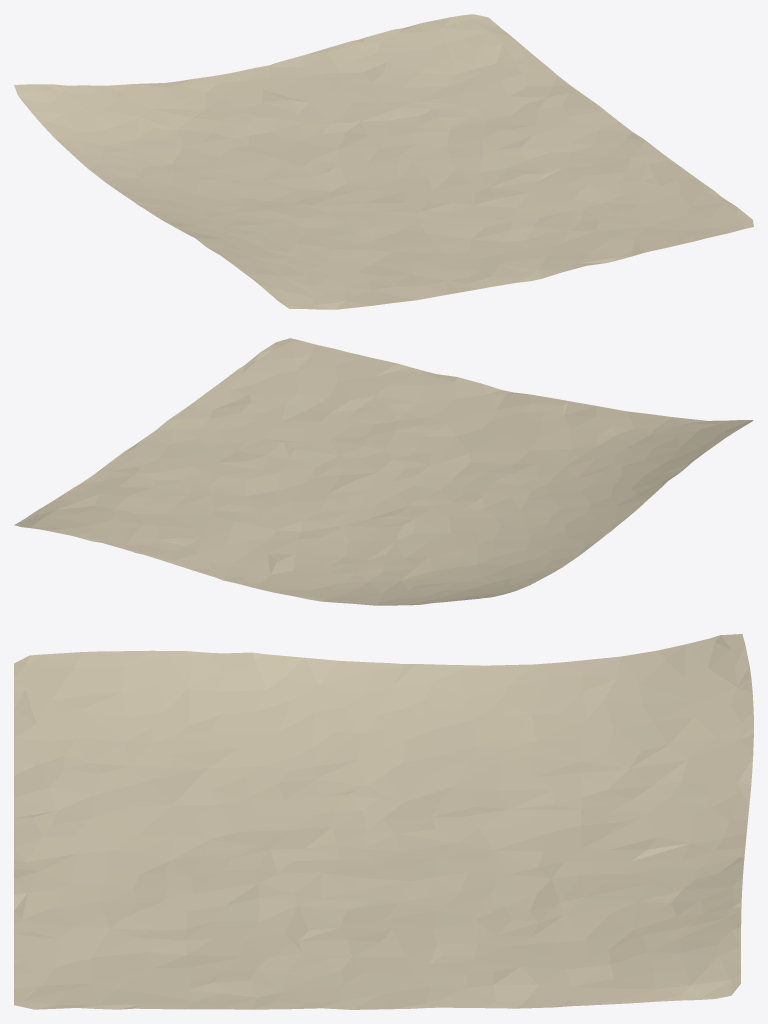
Rendered from Desert Floor.fbx.
3 renders of one model, top to bottom at view 1: azimuth 30°, elevation 25°; view 2: azimuth 150°, elevation 25°; view 3: azimuth 270°, elevation 25°, orthographic. The views are drawn at different scales.
Parts seen in each view (by area): view 1: pPlane1; view 2: pPlane1; view 3: pPlane1.
Part boxes in pixels (x1,y1,x2,y2): pPlane1: [14, 14, 753, 309]; pPlane1: [14, 338, 753, 605]; pPlane1: [14, 634, 753, 1009].
Size of the model in its own units: 24 by 2.75 by 24.43.
